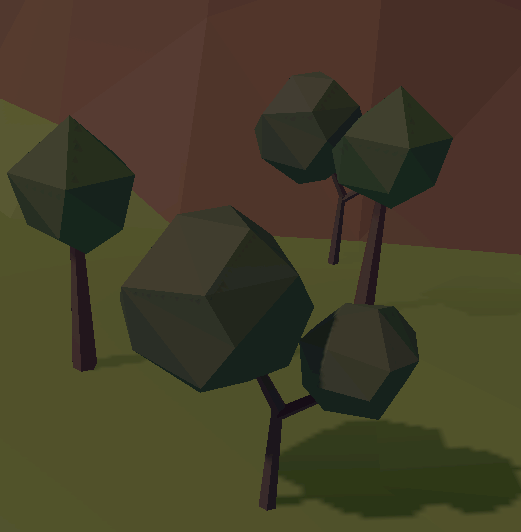tree: (111, 201, 419, 513), (1, 107, 134, 396), (334, 88, 454, 312), (252, 67, 353, 272)
